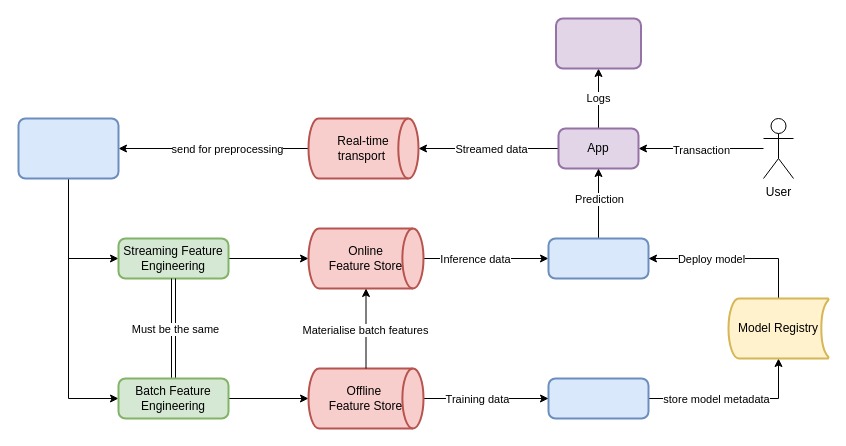
Image size: 846x446. Some labels were removed from this diagram. The shapes that lost their labels are listed below. From the top down, each one's centre as x and y in pixels, then its label:
the point at 598,43: Monitoring Service
the point at 68,148: Data PIpeline
the point at 598,258: Inference Pipeline
the point at 598,398: Training Pipeline
